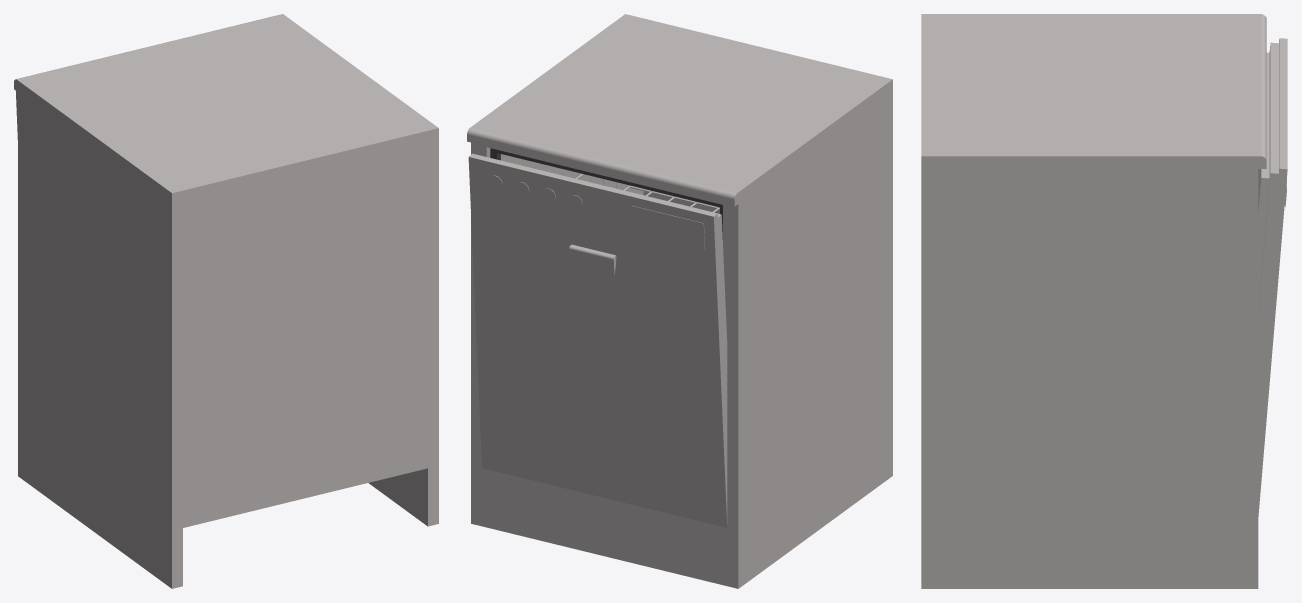
Rendered from Dishwasher.glb.
3 views of the same model, side by side, from view 1: azimuth 30°, elevation 25°; view 2: azimuth 150°, elevation 25°; view 3: azimuth 270°, elevation 25° (orthographic). The views are drawn at different scales.
Bounding box in the file's own units: 0.336 × 0.476 × 0.3653.
Materials: 1 (1 with a texture image).
